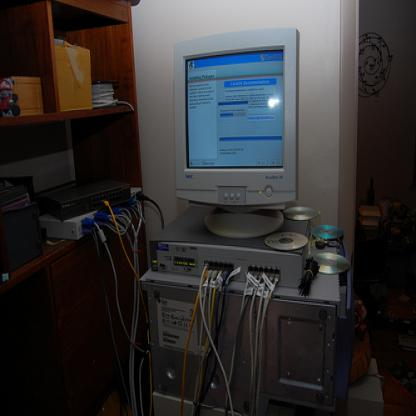tvmonitor: (173, 26, 300, 241)
